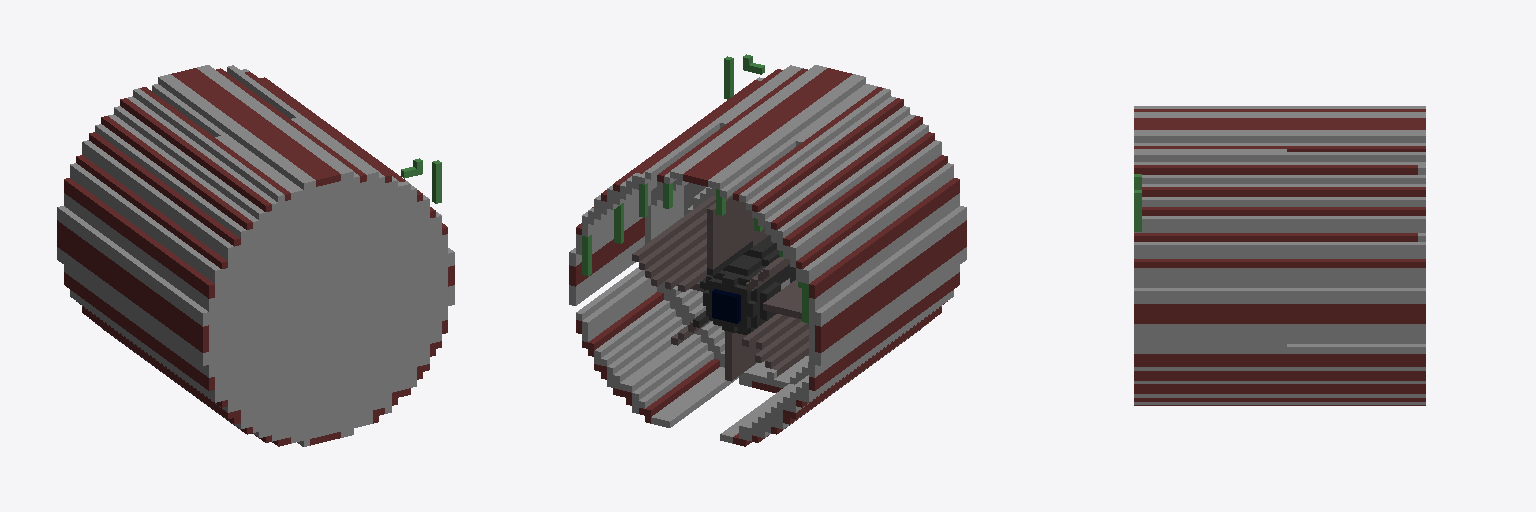
3 views of the same model, side by side, from view 1: azimuth 30°, elevation 25°; view 2: azimuth 150°, elevation 25°; view 3: azimuth 270°, elevation 25° (orthographic).
Visible parts, largest first — view 1: object 1; view 2: object 1; view 3: object 1.
Part boxes in pixels (x1,y1,x2,y2): object 1: (57,65,454,446); object 1: (569,54,966,446); object 1: (1134,106,1425,405).
Bounding box in the file's own units: 4 × 4 × 4.
1 materials, 1 textured.